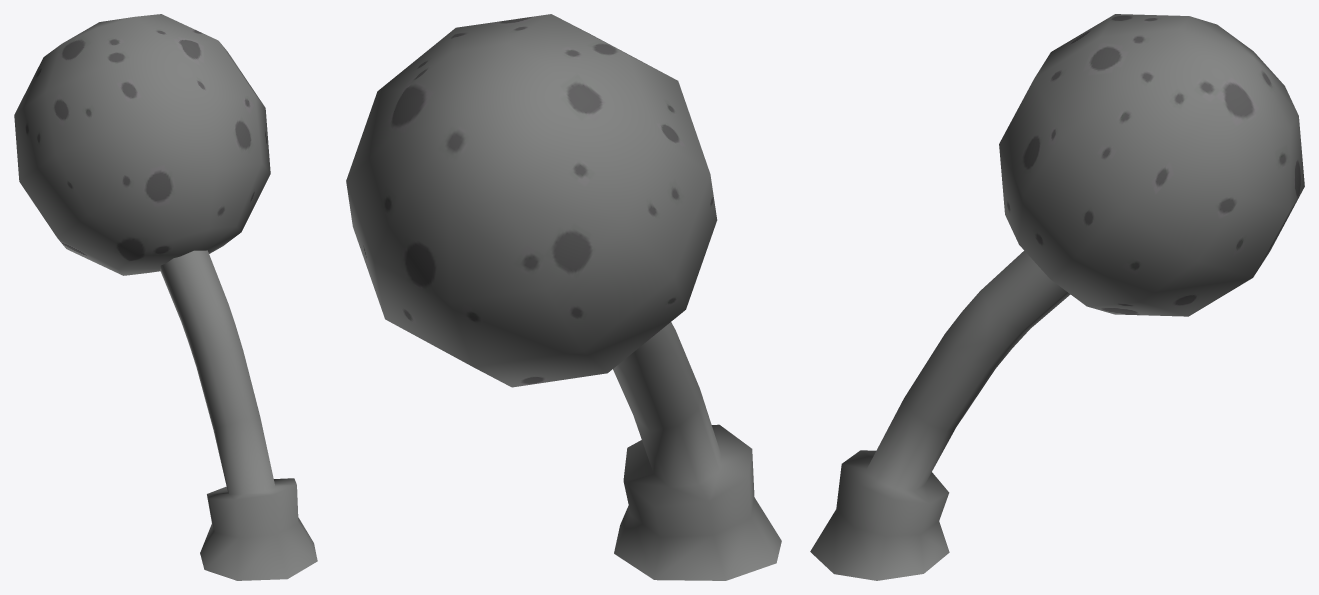
Rendered from potatomine_antena.obj.
3 renders of one model, left to right at view 1: azimuth 30°, elevation 25°; view 2: azimuth 150°, elevation 25°; view 3: azimuth 270°, elevation 25°, orthographic. The views are drawn at different scales.
Visible parts, largest first — view 1: potatomine_antena; view 2: potatomine_antena; view 3: potatomine_antena.
Boxes of the visible parts, box(x1,y1,x2,y2) form: potatomine_antena: box(14, 14, 317, 580); potatomine_antena: box(346, 14, 781, 580); potatomine_antena: box(810, 14, 1304, 580).
Bounding box in the file's own units: 0.1794 × 0.3433 × 0.2927.
